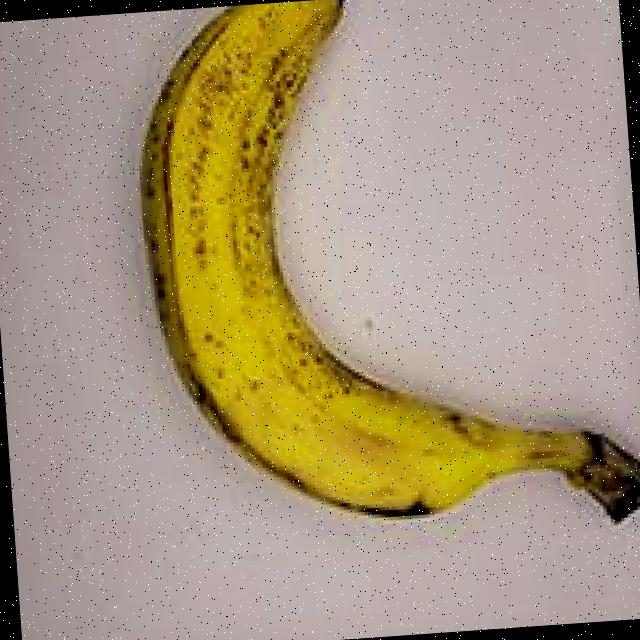Overripe: (97, 0, 640, 575)
